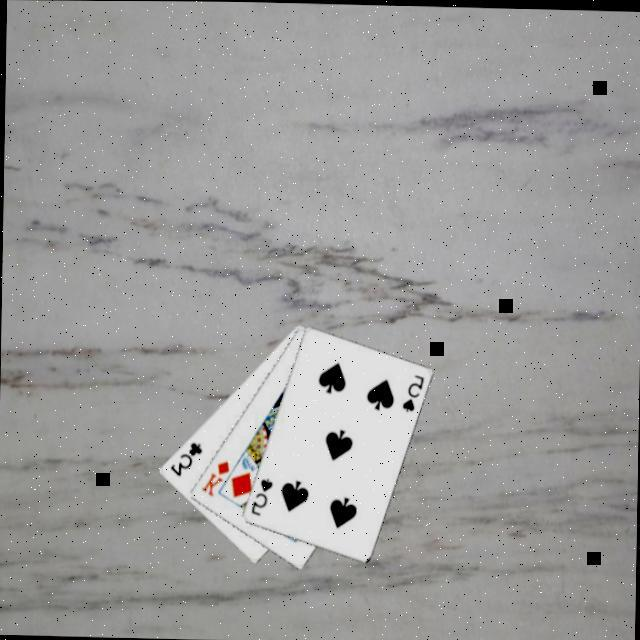3C: (166, 435, 205, 477)
5S: (398, 368, 427, 412), (248, 472, 276, 516)
KD: (198, 454, 232, 497)
